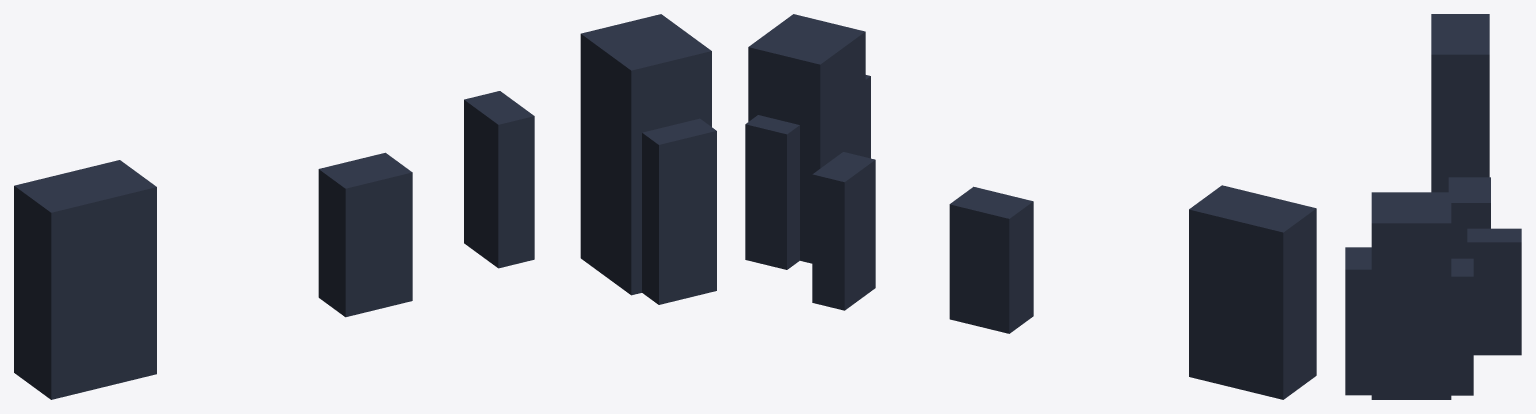
The model's file is prop_backdrop_0.glb.
3 views of the same model, side by side, from view 1: azimuth 30°, elevation 25°; view 2: azimuth 150°, elevation 25°; view 3: azimuth 270°, elevation 25° (orthographic). The views are drawn at different scales.
Parts seen in each view (by area): view 1: prop_backdrop_0; view 2: prop_backdrop_0; view 3: prop_backdrop_0.
Boxes of the visible parts, <box> form: prop_backdrop_0: <box>14,14,716,399</box>; prop_backdrop_0: <box>745,14,1316,399</box>; prop_backdrop_0: <box>1345,14,1521,399</box>.
Size of the model in its own units: 12.09 by 4.17 by 3.77.
